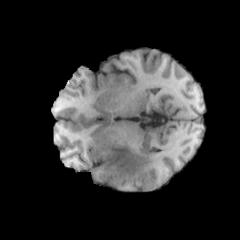glioma: (101, 146, 154, 185)
